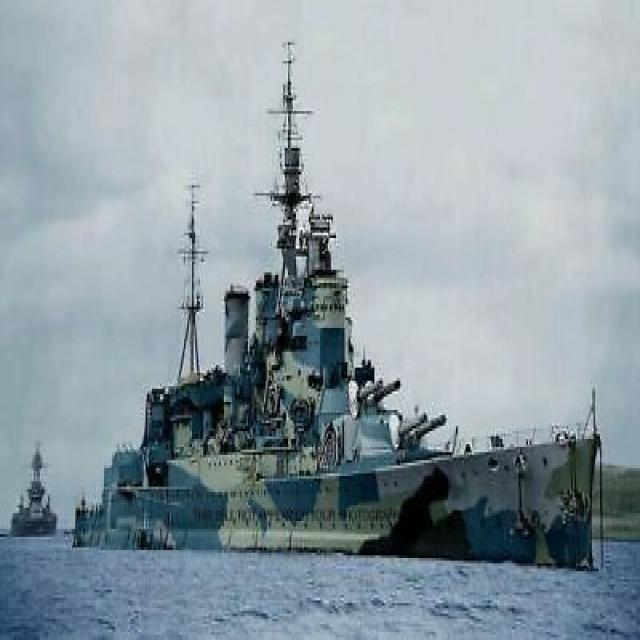navalvessels: (92, 78, 570, 570), (8, 433, 68, 557)
